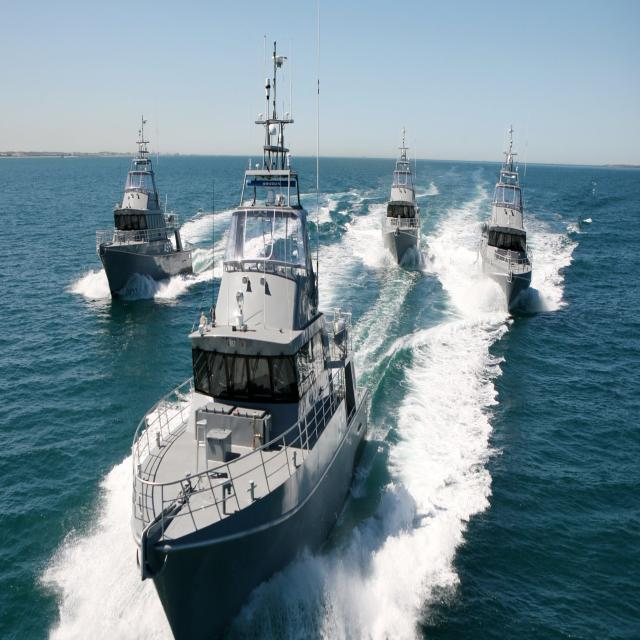houseboat: (131, 50, 367, 640), (98, 108, 193, 302), (480, 110, 533, 306), (378, 130, 425, 264)
